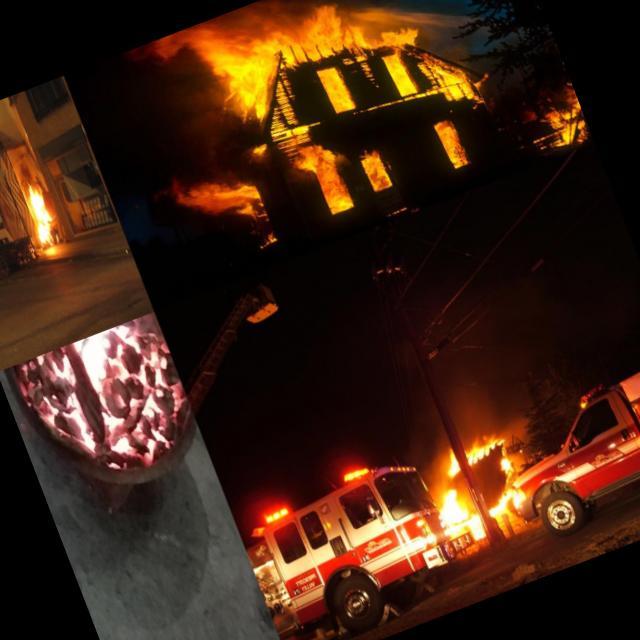fire: (187, 0, 478, 180), (20, 312, 204, 492), (415, 420, 542, 546), (165, 154, 270, 245), (296, 147, 356, 221), (524, 89, 590, 155), (15, 165, 62, 244), (433, 115, 472, 173), (358, 147, 396, 195)
